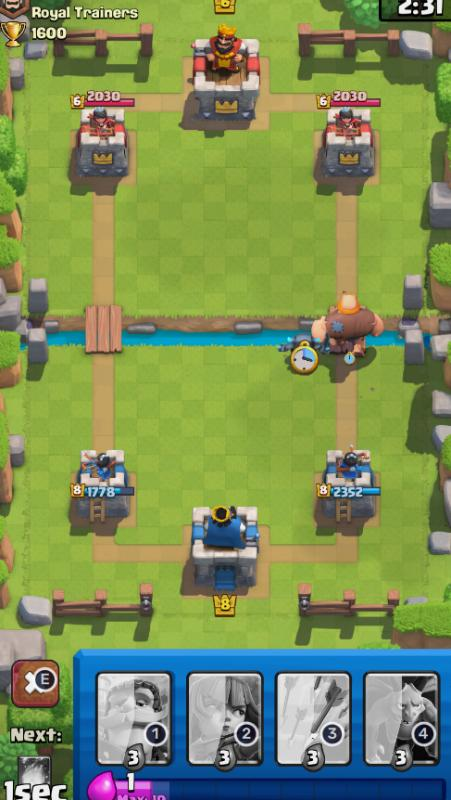geant: (317, 292, 377, 368)
mini_PEKKA: (277, 331, 325, 380)
